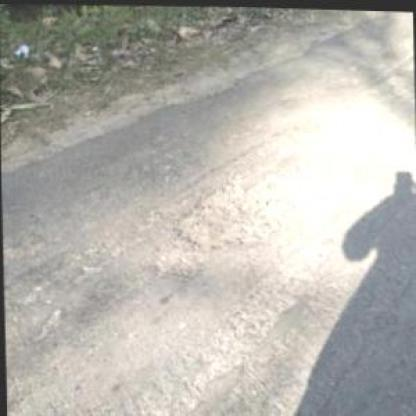pothole: (167, 173, 292, 251), (154, 247, 209, 281)
